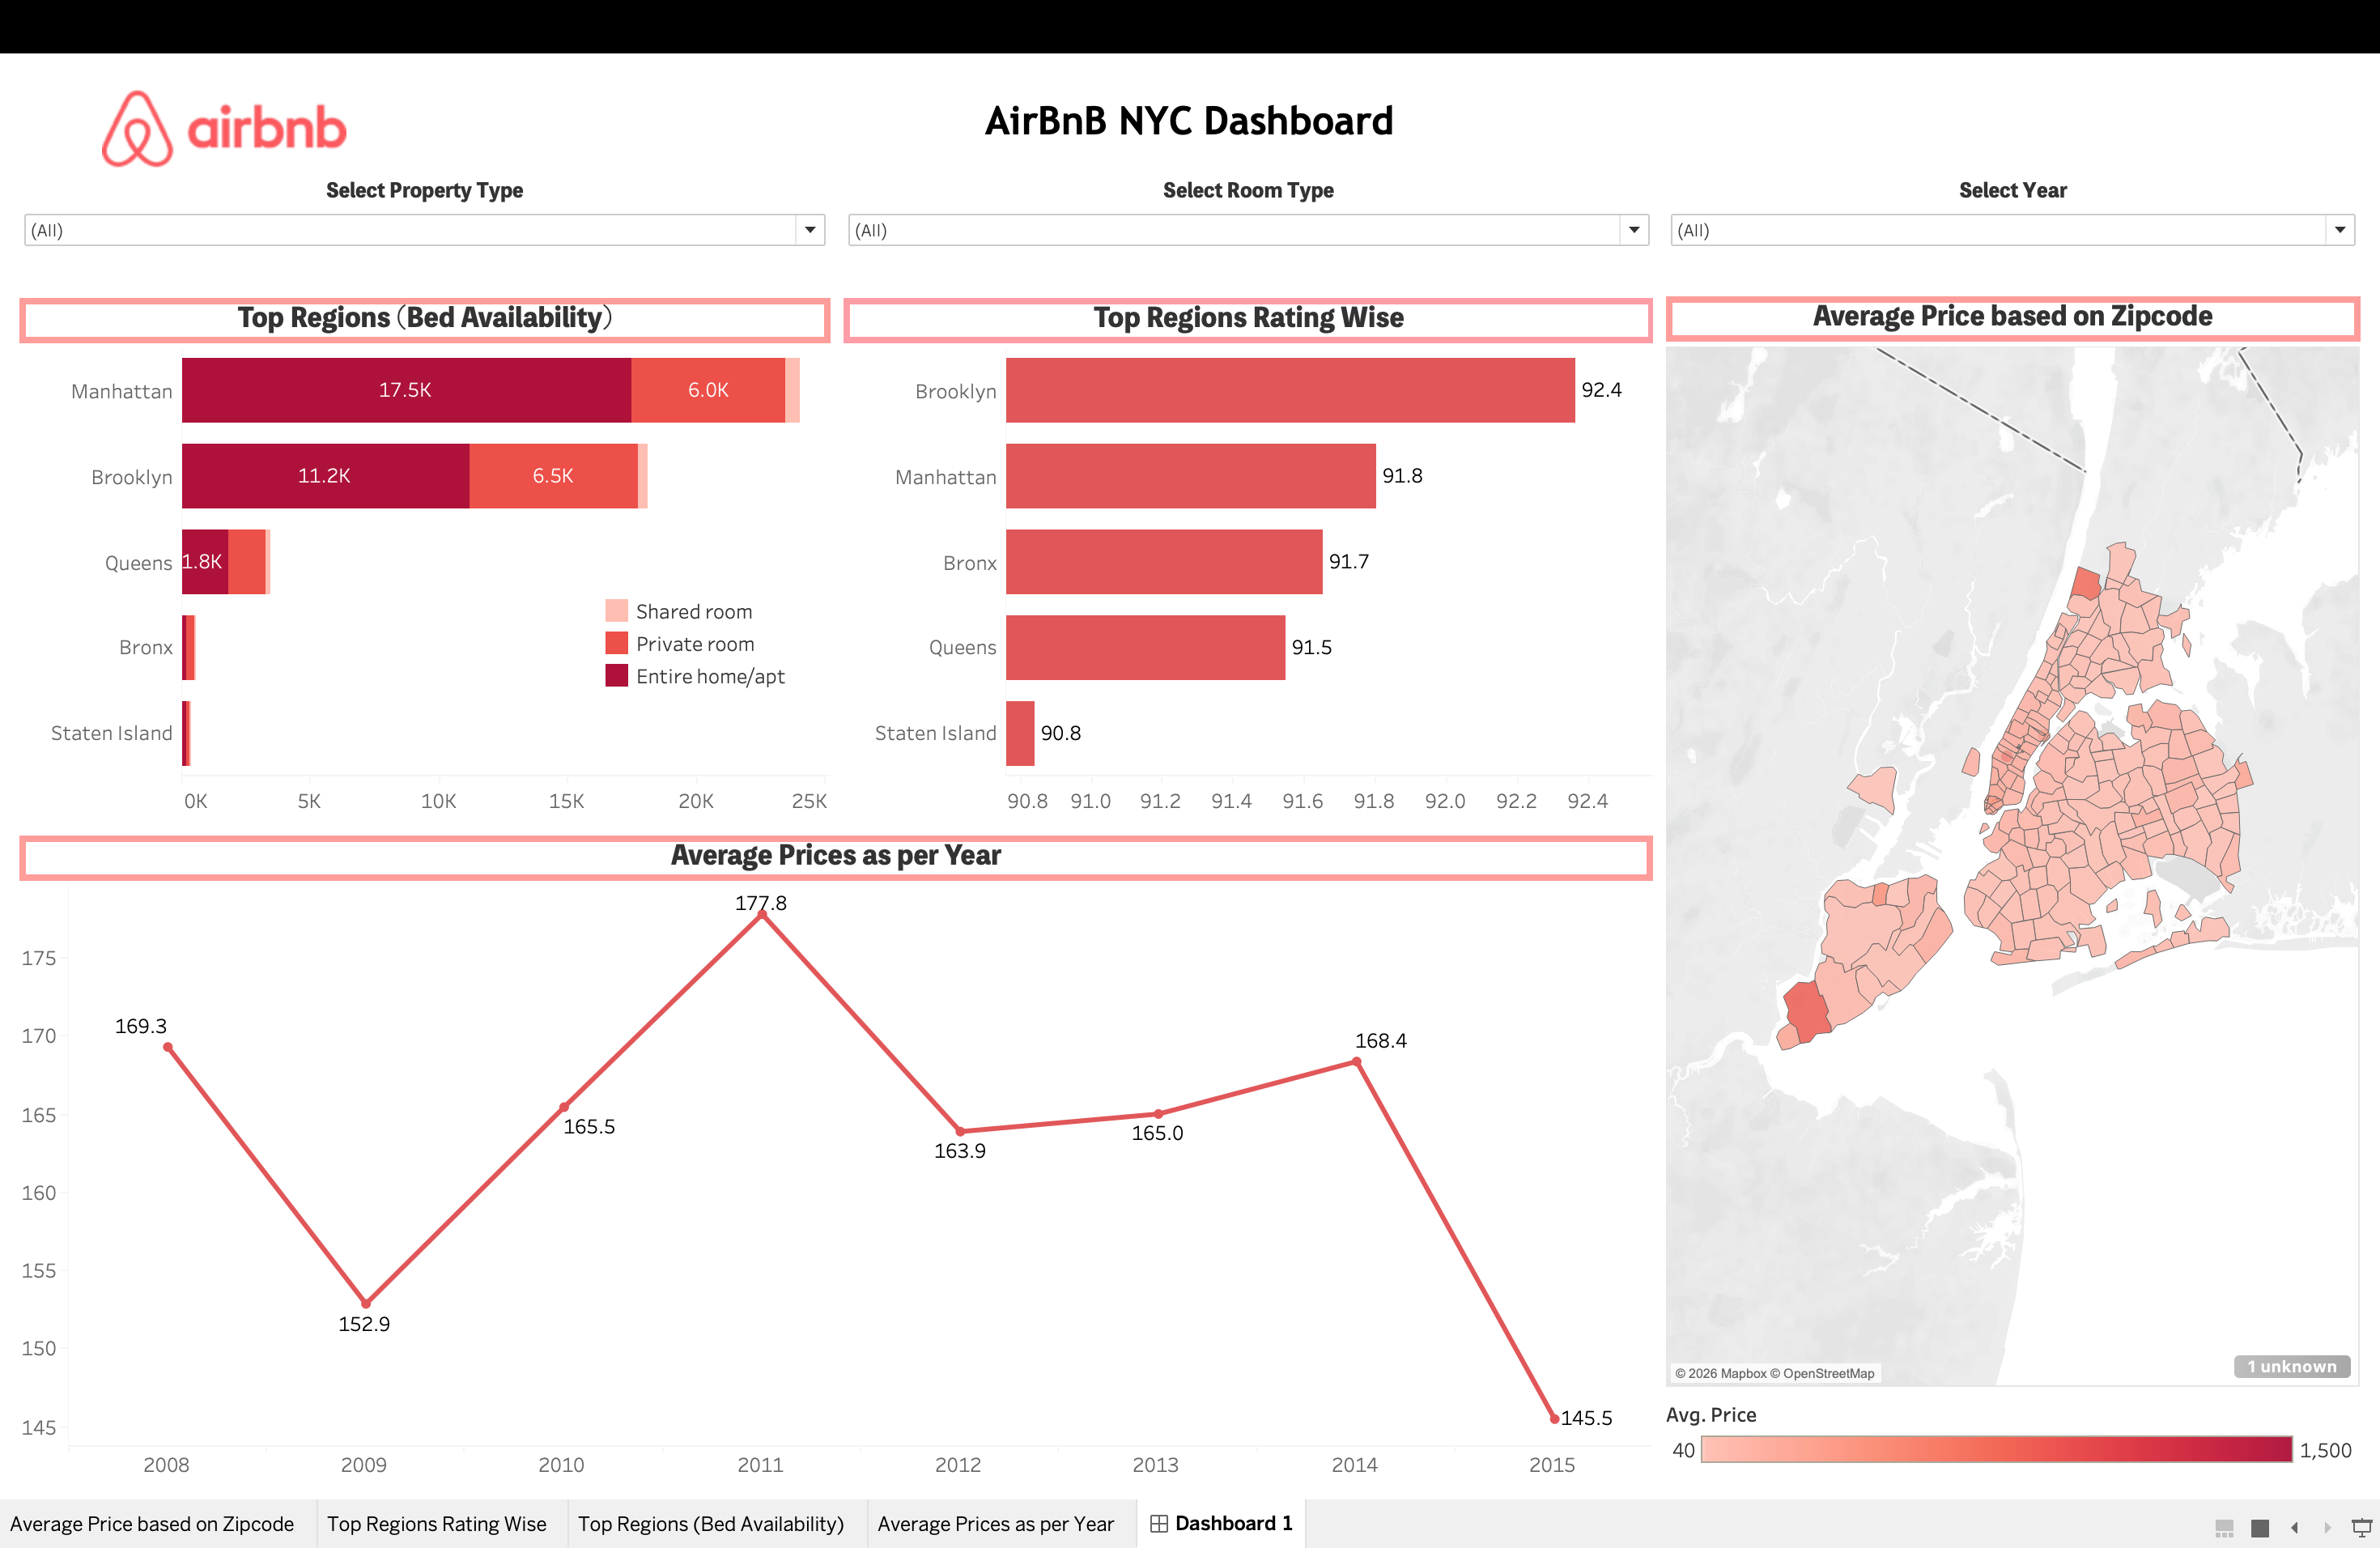

What the dashboard file says about the page in this screenshot:
{"tool":"tableau","page":{"name":"Dashboard 1","canvas":[1000,1000],"units":"permille","ordinal":0},"visuals":[{"type":"title","box":[5.4,9,989.1,73.9]},{"type":"filter","title":"Top Regions (Bed Availability)","param":"[federated.1sal7b511fxxgr11ueedq0j80tgp].[none:Property Type:nk]","box":[5.4,82.9,346,81.4]},{"type":"filter","title":"Top Regions Rating Wise","param":"[federated.1sal7b511fxxgr11ueedq0j80tgp].[none:Room Type:nk]","box":[351.4,82.9,346.2,81.4]},{"type":"filter","title":"Top Regions Rating Wise","param":"[federated.1sal7b511fxxgr11ueedq0j80tgp].[yr:Host Since:ok]","box":[697.6,82.9,297,80.9]},{"type":"worksheet","title":"Average Price based on Zipcode","mark":"Automatic","box":[697.6,163.7,297,763.7]},{"type":"worksheet","title":"Top Regions (Bed Availability)","mark":"Automatic","rows":["Neighbourhood"],"cols":["Beds"],"box":[5.4,164.3,346,372.4]},{"type":"worksheet","title":"Top Regions Rating Wise","mark":"Automatic","rows":["Neighbourhood"],"cols":["Review Scores Rating"],"box":[351.4,164.3,346.2,372.4]},{"type":"legend","title":"Top Regions (Bed Availability)","param":"[federated.1sal7b511fxxgr11ueedq0j80tgp].[none:Room Type:nk]","box":[252.6,373.8,99.3,106.4]},{"type":"worksheet","title":"Average Prices as per Year","mark":"Automatic","rows":["Price"],"cols":["Host Since"],"box":[5.4,536.7,692.2,454.3]},{"type":"legend","title":"Average Price based on Zipcode","param":"[federated.1sal7b511fxxgr11ueedq0j80tgp].[avg:Price:qk]","box":[697.6,927.4,297,63.6]}]}

Visuals, with their boxes on the dashboard's canvas, which has no fixed pixel size, in thousandths of its width and height (x1, y1, x2, y2). These are canvas units, not pixel positions in the 2380x1548 screenshot, which may show the page scaled, cropped or inside an application window:
title: bbox(5, 9, 994, 83)
"Top Regions (Bed Availability)" filter: bbox(5, 83, 351, 164)
"Top Regions Rating Wise" filter: bbox(351, 83, 698, 164)
"Top Regions Rating Wise" filter: bbox(698, 83, 995, 164)
"Average Price based on Zipcode" worksheet: bbox(698, 164, 995, 927)
"Top Regions (Bed Availability)" worksheet: bbox(5, 164, 351, 537)
"Top Regions Rating Wise" worksheet: bbox(351, 164, 698, 537)
"Top Regions (Bed Availability)" legend: bbox(253, 374, 352, 480)
"Average Prices as per Year" worksheet: bbox(5, 537, 698, 991)
"Average Price based on Zipcode" legend: bbox(698, 927, 995, 991)
